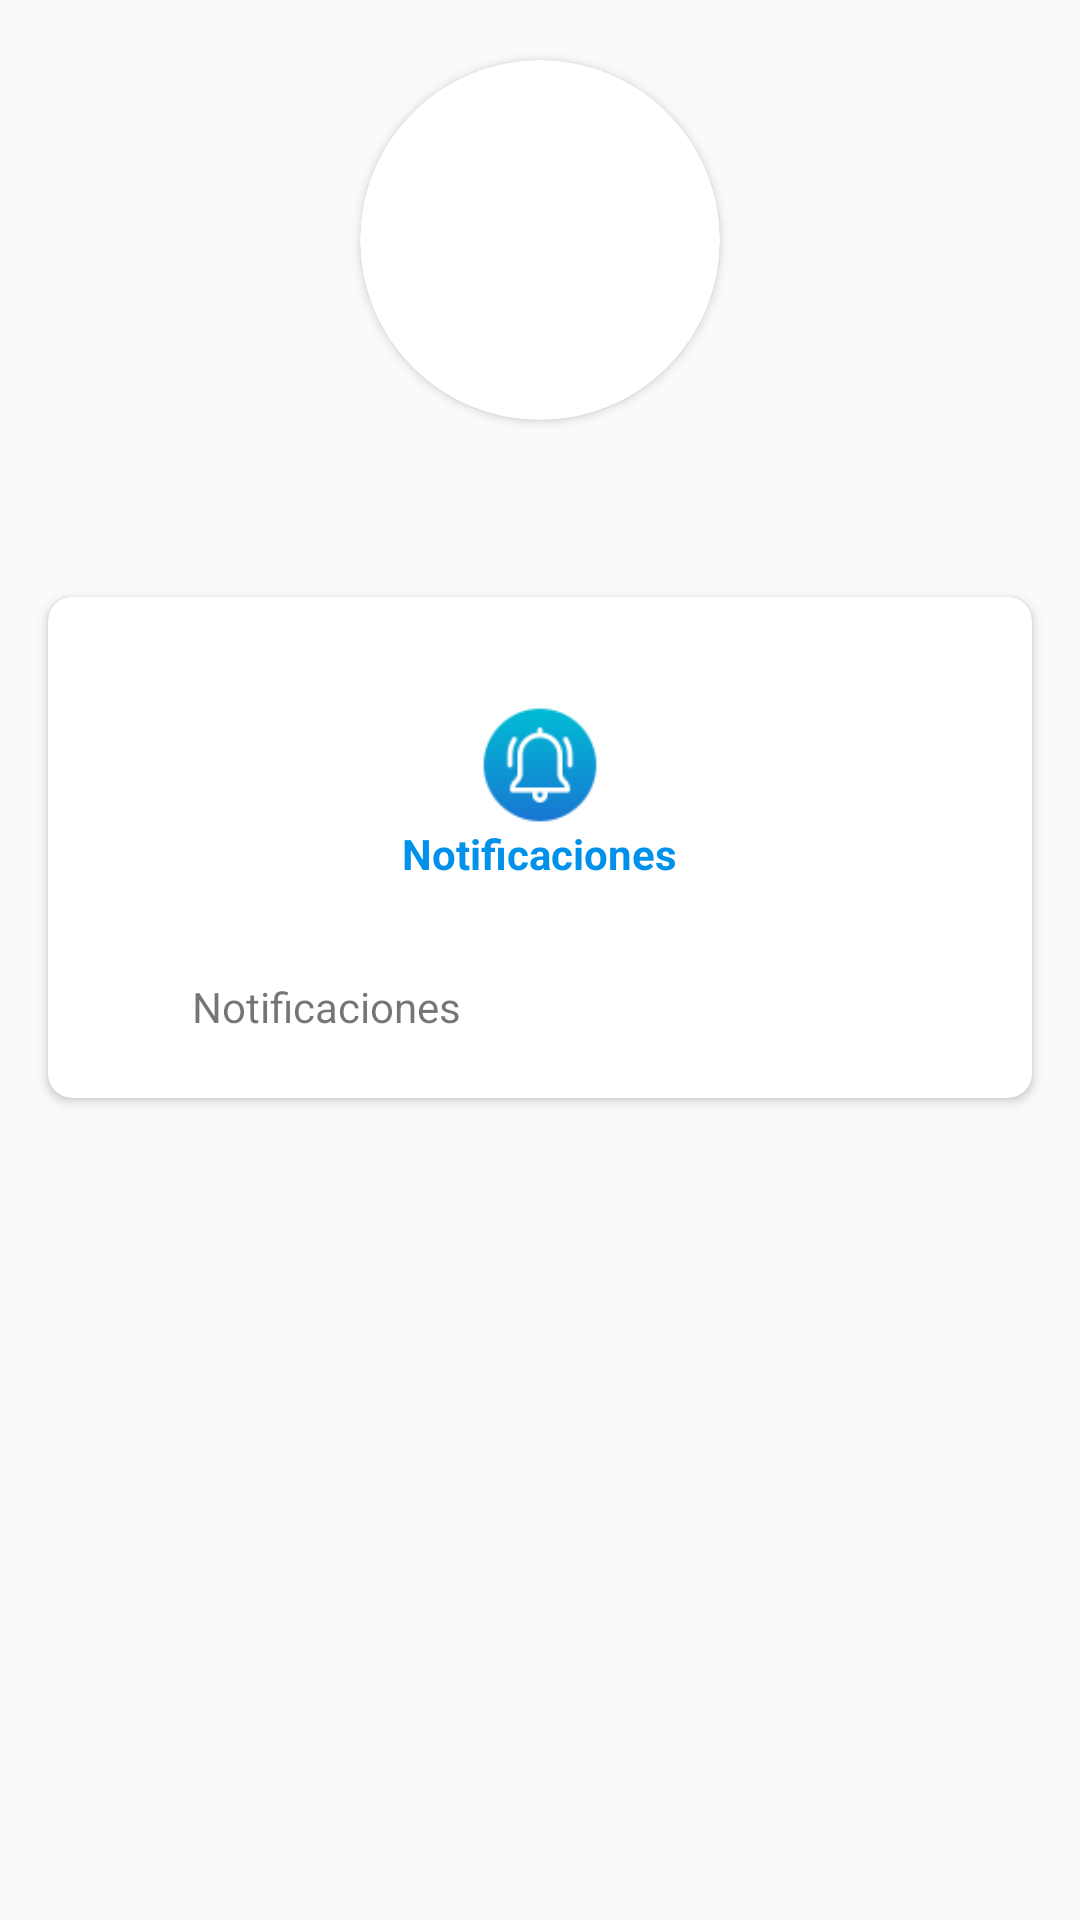

Locate icon controls on the screen. Image size 1080 × 1920, boxes as (x1, y1, x2, y2).
campana: (483, 708, 597, 822)
